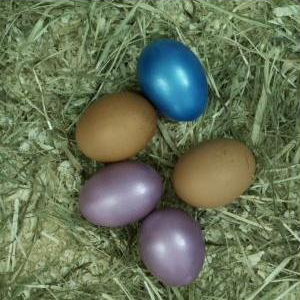eggw: (171, 139, 256, 209), (78, 162, 164, 228), (139, 40, 209, 121), (75, 93, 156, 162), (139, 209, 205, 287)
